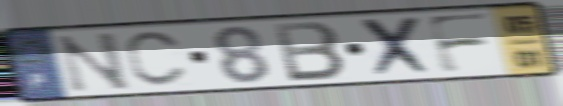8: (210, 24, 273, 86)
B: (270, 20, 349, 84)
C: (122, 29, 189, 89)
F: (423, 11, 494, 76)
N: (53, 30, 134, 94)
X: (357, 13, 438, 80)
